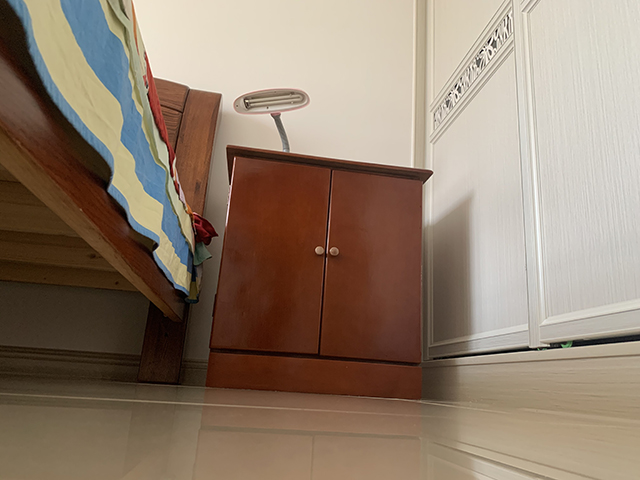bed: (1, 1, 228, 386)
cabinet: (412, 1, 638, 421), (195, 142, 435, 402)
